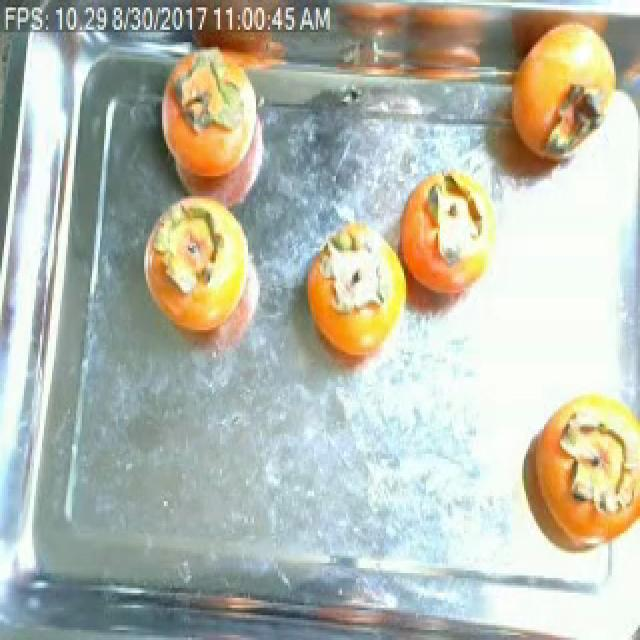Fruit: (130, 181, 268, 367)
